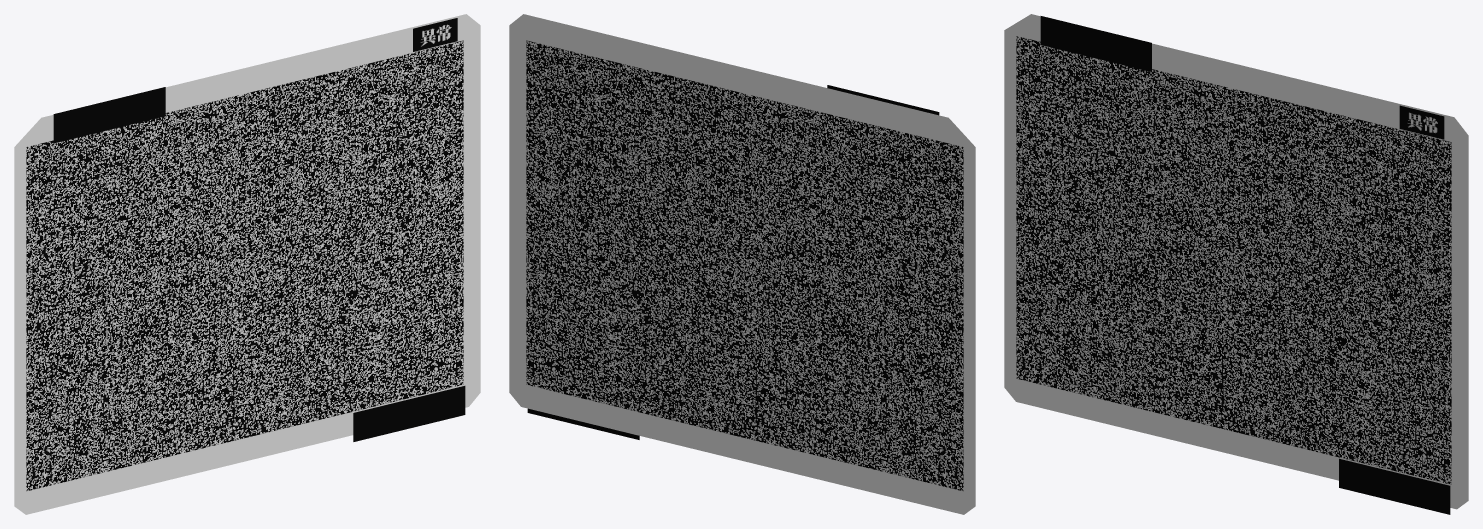
Rendered from PHOTO03.glb.
The picture shows the model from 3 angles, left to right: view 1: azimuth 30°, elevation 25°; view 2: azimuth 150°, elevation 25°; view 3: azimuth 330°, elevation 25°; orthographic projection.
Visible parts, largest first — view 1: photo1; view 2: photo1; view 3: photo1.
Boxes of the visible parts, x1,y1,x2,y2 form: photo1: (14,14,480,514); photo1: (509,14,975,514); photo1: (1004,14,1468,514).
Size of the model in its own units: 26.66 by 21.91 by 0.1408.
Materials: 5 (5 with a texture image).
